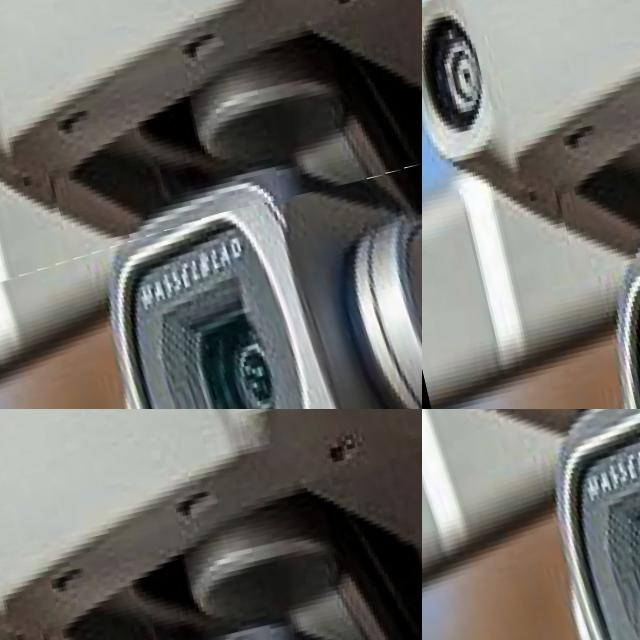0: (0, 142, 422, 409)
drone: (422, 409, 640, 640)
